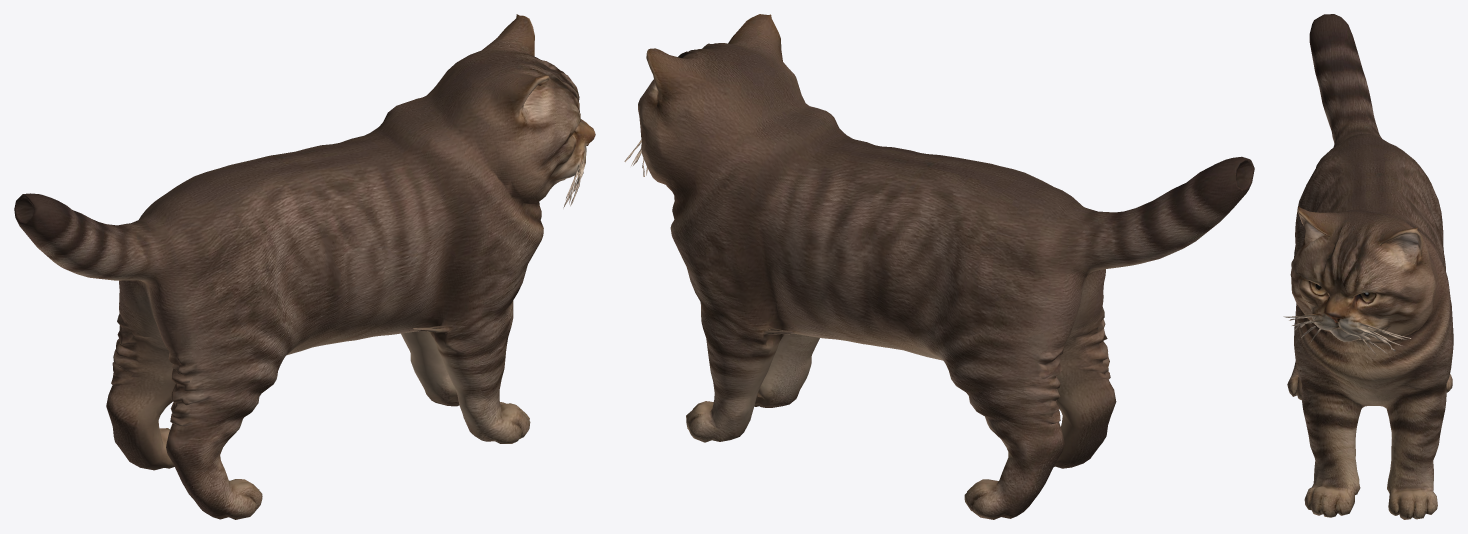
The model's file is SQUINTPAW.glb.
3 renders of one model, left to right at view 1: azimuth 30°, elevation 25°; view 2: azimuth 150°, elevation 25°; view 3: azimuth 270°, elevation 25°, orthographic. The views are drawn at different scales.
Visible parts, largest first — view 1: tripo_node_2d622dc1-778e-49a1-91b9-21530d55815e; view 2: tripo_node_2d622dc1-778e-49a1-91b9-21530d55815e; view 3: tripo_node_2d622dc1-778e-49a1-91b9-21530d55815e.
Boxes of the visible parts, bbox=[...] form: tripo_node_2d622dc1-778e-49a1-91b9-21530d55815e: bbox=[14, 14, 595, 519]; tripo_node_2d622dc1-778e-49a1-91b9-21530d55815e: bbox=[624, 14, 1254, 519]; tripo_node_2d622dc1-778e-49a1-91b9-21530d55815e: bbox=[1283, 14, 1453, 519].
Bounding box in the file's own units: 1.64 × 1 × 0.4936.
Materials: 1 (1 with a texture image).
